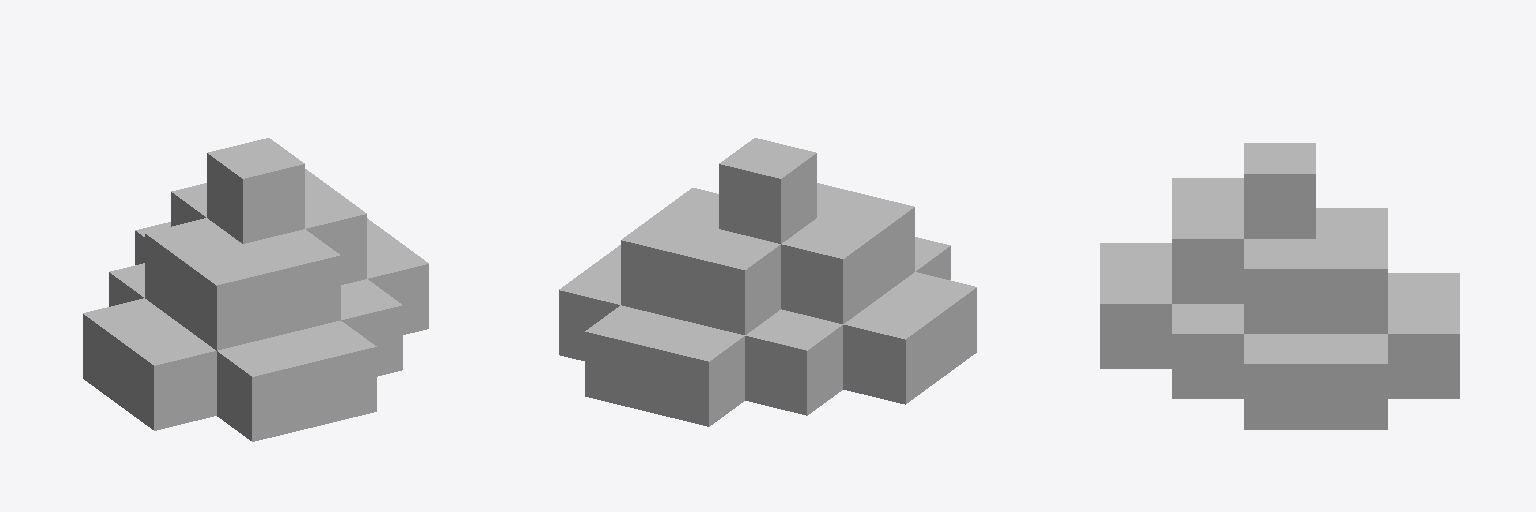
Rendered from Rock.obj.
3 views of the same model, side by side, from view 1: azimuth 30°, elevation 25°; view 2: azimuth 150°, elevation 25°; view 3: azimuth 270°, elevation 25° (orthographic).
Parts seen in each view (by area): view 1: object 1; view 2: object 1; view 3: object 1.
Part boxes in pixels (left/top/right/bottom): object 1: left=83, top=138, right=428, bottom=441; object 1: left=559, top=138, right=976, bottom=426; object 1: left=1100, top=143, right=1459, bottom=429.
Size of the model in its own units: 0.5 by 0.3 by 0.5.